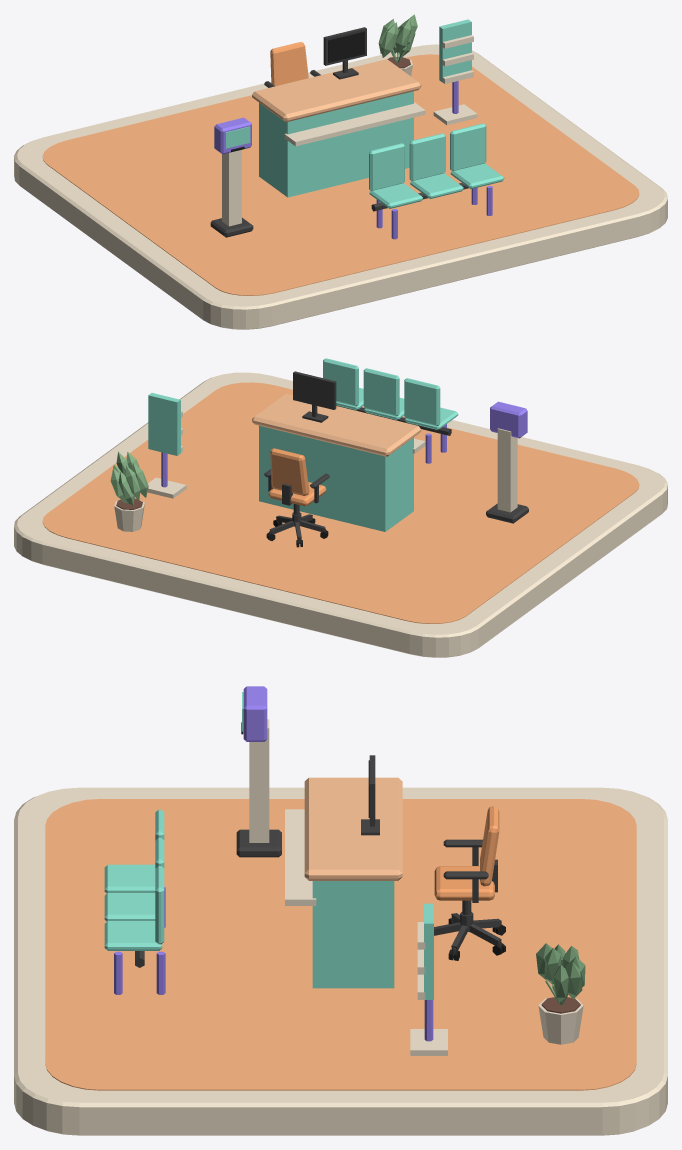
File: room.fbx
3 renders of one model, top to bottom at view 1: azimuth 30°, elevation 25°; view 2: azimuth 150°, elevation 25°; view 3: azimuth 270°, elevation 25°, orthographic. The views are drawn at different scales.
Parts seen in each view (by area): view 1: COM-02 Floor Surface, COM-01 Rounded Base Direct, Counter body, Countertop, Visitor shelf, Frame, Back.001, Back.002, COM-04_Chair_blender_direct, Back, Pedestal, Pot (+7 smaller); view 2: COM-02 Floor Surface, COM-01 Rounded Base Direct, Counter body, Countertop, COM-04_Chair_blender_direct, Pot, Pedestal, Frame, Back.001, Back, Back.002, Display housing (+5 smaller); view 3: COM-02 Floor Surface, COM-01 Rounded Base Direct, Countertop, Counter body, COM-04_Chair_blender_direct, Pot, Pedestal, Visitor shelf, Seat.002, Seat, Seat.001, Display housing (+4 smaller).
Boxes of the visible parts, bbox=[...] form: COM-02 Floor Surface: bbox=[42, 54, 639, 295]; COM-01 Rounded Base Direct: bbox=[14, 44, 667, 329]; Counter body: bbox=[259, 91, 413, 197]; Countertop: bbox=[252, 59, 421, 122]; Visitor shelf: bbox=[284, 102, 425, 146]; Frame: bbox=[323, 27, 366, 79]; Back.001: bbox=[409, 133, 445, 180]; Back.002: bbox=[450, 123, 486, 170]; COM-04_Chair_blender_direct: bbox=[264, 42, 320, 87]; Back: bbox=[369, 143, 404, 190]; Pedestal: bbox=[222, 150, 241, 226]; Pot: bbox=[378, 14, 417, 76]; COM-02 Floor Surface: bbox=[42, 382, 639, 623]; COM-01 Rounded Base Direct: bbox=[14, 372, 667, 657]; Counter body: bbox=[259, 425, 413, 531]; Countertop: bbox=[252, 393, 421, 456]; COM-04_Chair_blender_direct: bbox=[264, 448, 329, 547]; Pot: bbox=[110, 451, 148, 531]; Pedestal: bbox=[497, 428, 517, 512]; Frame: bbox=[293, 371, 336, 422]; Back.001: bbox=[363, 368, 399, 416]; Back: bbox=[404, 378, 440, 426]; Back.002: bbox=[323, 358, 358, 406]; Display housing: bbox=[490, 401, 527, 438]; COM-02 Floor Surface: bbox=[45, 799, 636, 1090]; COM-01 Rounded Base Direct: bbox=[14, 787, 667, 1135]; Countertop: bbox=[304, 777, 402, 880]; Counter body: bbox=[312, 881, 394, 988]; COM-04_Chair_blender_direct: bbox=[434, 806, 505, 960]; Pot: bbox=[536, 943, 585, 1044]; Pedestal: bbox=[249, 719, 269, 842]; Visitor shelf: bbox=[285, 809, 316, 905]; Seat.002: bbox=[104, 921, 162, 950]; Seat: bbox=[104, 864, 155, 893]; Seat.001: bbox=[104, 893, 155, 921]; Display housing: bbox=[243, 686, 267, 741].
Bounding box in the file's own units: 600 × 192 × 520.
